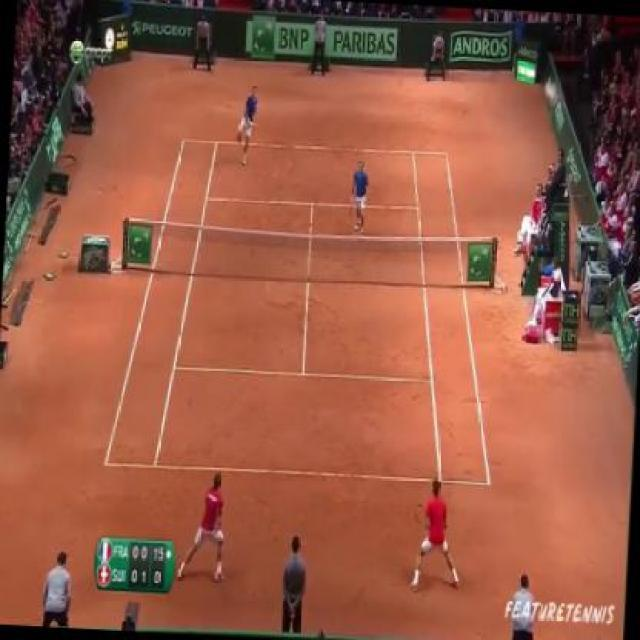non-fight: (403, 478, 463, 596), (176, 466, 230, 588), (232, 78, 262, 162), (343, 154, 371, 238)
